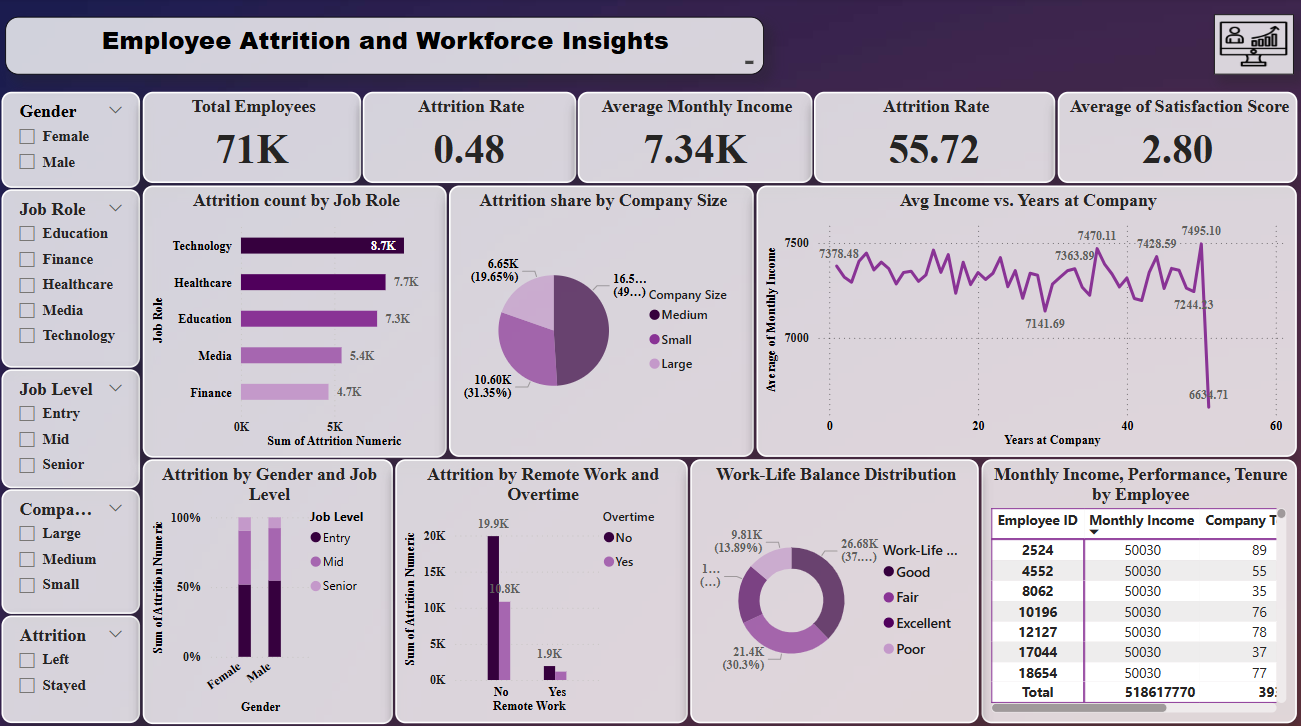

The page's visual inventory and layout, read from the dashboard file:
{"tool":"powerbi","page":{"name":"Page 1","canvas":[1280,720],"ordinal":0},"visuals":[{"type":"slicer","fields":{"Values":["emp emp_attrition_csv.Gender"]},"box":[2.5,92,136.2,94.5],"z":0},{"type":"textbox","title":"Employee Attrition and Workforce Insights","box":[6.1,18.4,744.8,56.4],"z":1000},{"type":"image","box":[1192.6,16,78.5,58.9],"z":2000},{"type":"slicer","fields":{"Values":["emp emp_attrition_csv.Job Role"]},"box":[2.5,187.7,136.2,175.5],"z":3000},{"type":"slicer","fields":{"Values":["emp emp_attrition_csv.Job Level"]},"box":[2.5,364.4,136.2,116.6],"z":4000},{"type":"slicer","fields":{"Values":["emp emp_attrition_csv.Company Size"]},"box":[2.5,482.2,136.2,122.7],"z":5000},{"type":"slicer","fields":{"Values":["emp emp_attrition_csv.Attrition"]},"box":[2.5,606.1,136.2,105.5],"z":6000},{"type":"card","title":"Total Employees","fields":{"Values":["emp emp_attrition_csv.Total Employees"]},"box":[141.1,92,214.7,89.6],"z":7000},{"type":"card","title":"Attrition Rate","fields":{"Values":["emp emp_attrition_csv.Attrition Rate"]},"box":[357.1,92,209.8,89.6],"z":8000},{"type":"card","title":"Average Monthly Income","fields":{"Values":["emp emp_attrition_csv.Average Monthly Income"]},"box":[568.1,92,230.7,89.6],"z":9000},{"type":"card","title":"Attrition Rate","fields":{"Values":["emp emp_attrition_csv.Average Tenure"]},"box":[800,92,236.8,89.6],"z":10000},{"type":"card","title":"Average of Satisfaction Score","fields":{"Values":["Avg(emp emp_attrition_csv.Satisfaction Score)"]},"box":[1039.3,92,235.6,89.6],"z":11000},{"type":"clusteredBarChart","title":"Attrition count by Job Role","fields":{"Category":["emp emp_attrition_csv.Job Role"],"Y":["Sum(emp emp_attrition_csv.Attrition Numeric)"]},"box":[141.1,184.1,298.2,267.5],"z":12000},{"type":"pieChart","title":"Attrition share by Company Size","fields":{"Y":["Sum(emp emp_attrition_csv.Attrition Numeric)"],"Category":["emp emp_attrition_csv.Company Size"]},"box":[441.7,184.1,299.4,266.3],"z":13000},{"type":"hundredPercentStackedColumnChart","title":"Attrition by Gender and Job Level","fields":{"Category":["emp emp_attrition_csv.Gender"],"Y":["Sum(emp emp_attrition_csv.Attrition Numeric)"],"Series":["emp emp_attrition_csv.Job Level"]},"box":[141.1,452.8,245.4,260.1],"z":14000},{"type":"clusteredColumnChart","title":"Attrition by Remote Work and Overtime","fields":{"Y":["Sum(emp emp_attrition_csv.Attrition Numeric)"],"Series":["emp emp_attrition_csv.Overtime"],"Category":["emp emp_attrition_csv.Remote Work"]},"box":[389,452.8,287.1,258.9],"z":15000},{"type":"lineChart","title":"Avg Income vs. Years at Company","fields":{"Category":["emp emp_attrition_csv.Years at Company"],"Y":["Avg(emp emp_attrition_csv.Monthly Income)"]},"box":[743.6,184.1,530.1,266.3],"z":16000},{"type":"pivotTable","title":"Monthly Income, Performance, Tenure by Employee","fields":{"Rows":["emp emp_attrition_csv.Employee ID"],"Values":["Sum(emp emp_attrition_csv.Monthly Income)","Sum(emp emp_attrition_csv.Company Tenure (In Months))","Sum(emp emp_attrition_csv.Performance Score)"]},"box":[964.4,452.8,309.2,258.9],"z":17000},{"type":"donutChart","title":"Work-Life Balance Distribution","fields":{"Y":["CountNonNull(emp emp_attrition_csv.Employee ID)"],"Category":["emp emp_attrition_csv.Work-Life Balance"]},"box":[678.5,452.8,283.4,258.9],"z":18001}]}

Visuals, with their boxes in screenshot pixels (x1, y1, x2, y2), scaled from the page's 1280x720 canvas onto the 1301x726 screenshot:
slicer - emp emp_attrition_csv.Gender: bbox=(3, 93, 141, 188)
"Employee Attrition and Workforce Insights" textbox: bbox=(6, 19, 763, 75)
image: bbox=(1212, 16, 1292, 76)
slicer - emp emp_attrition_csv.Job Role: bbox=(3, 189, 141, 366)
slicer - emp emp_attrition_csv.Job Level: bbox=(3, 367, 141, 485)
slicer - emp emp_attrition_csv.Company Size: bbox=(3, 486, 141, 610)
slicer - emp emp_attrition_csv.Attrition: bbox=(3, 611, 141, 718)
"Total Employees" card: bbox=(143, 93, 362, 183)
"Attrition Rate" card: bbox=(363, 93, 576, 183)
"Average Monthly Income" card: bbox=(577, 93, 812, 183)
"Attrition Rate" card: bbox=(813, 93, 1054, 183)
"Average of Satisfaction Score" card: bbox=(1056, 93, 1296, 183)
"Attrition count by Job Role" clusteredBarChart: bbox=(143, 186, 447, 455)
"Attrition share by Company Size" pieChart: bbox=(449, 186, 753, 454)
"Attrition by Gender and Job Level" hundredPercentStackedColumnChart: bbox=(143, 457, 393, 719)
"Attrition by Remote Work and Overtime" clusteredColumnChart: bbox=(395, 457, 687, 718)
"Avg Income vs. Years at Company" lineChart: bbox=(756, 186, 1295, 454)
"Monthly Income, Performance, Tenure by Employee" pivotTable: bbox=(980, 457, 1294, 718)
"Work-Life Balance Distribution" donutChart: bbox=(690, 457, 978, 718)
